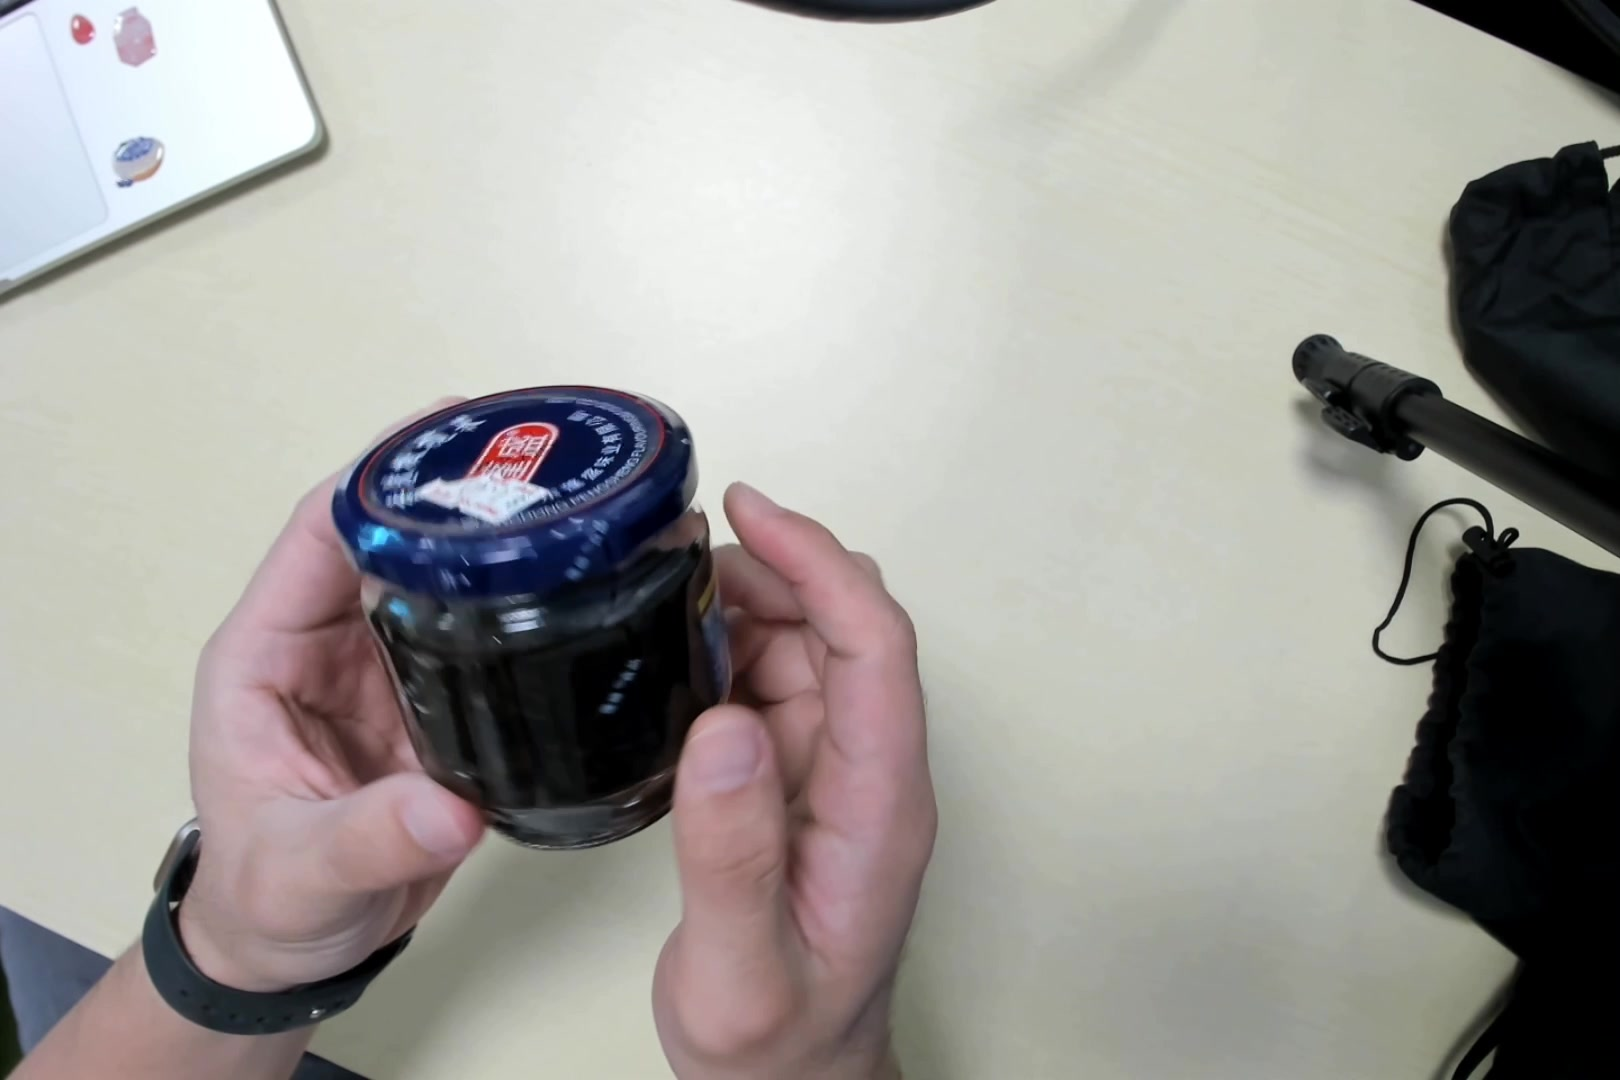OtherCannedVegetables_100-199g_Halal_NonHealthy: (348, 382, 736, 850)
